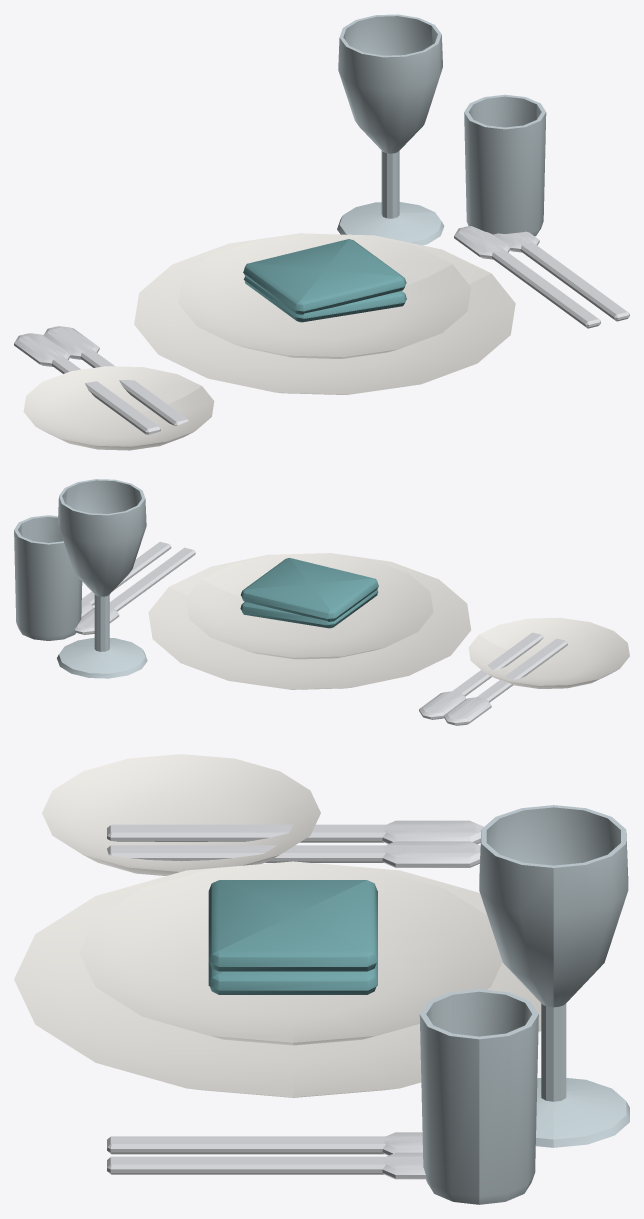
File: hotel-and-resort-operations-place-setting-e6708d95__25916.glb
3 views of the same model, one above another, from view 1: azimuth 30°, elevation 25°; view 2: azimuth 150°, elevation 25°; view 3: azimuth 270°, elevation 25° (orthographic). The views are drawn at different scales.
Visible parts, largest first — view 1: place-setting; view 2: place-setting; view 3: place-setting.
Part boxes in pixels (x1,y1,x2,y2): place-setting: [14, 14, 629, 450]; place-setting: [14, 479, 629, 725]; place-setting: [14, 754, 629, 1204].
Bounding box in the file's own units: 0.547 × 0.168 × 0.3309.
